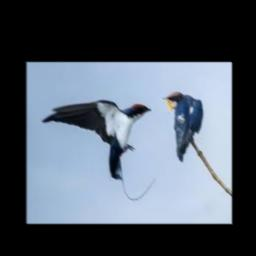Swallow: (43, 99, 152, 180), (163, 91, 203, 161)
